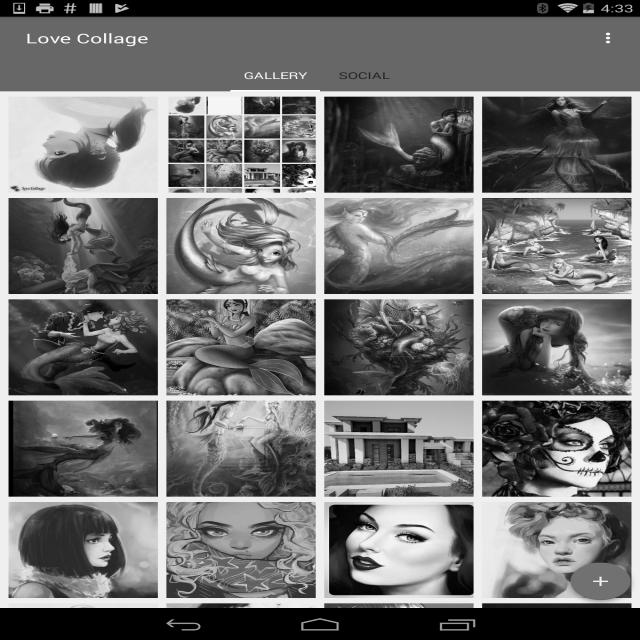ImageButton: (561, 559, 640, 608)
ImageView: (166, 96, 320, 192), (324, 96, 478, 192), (482, 96, 636, 192), (166, 198, 320, 294), (324, 198, 478, 294), (482, 198, 636, 294), (166, 300, 320, 396), (324, 300, 478, 396), (482, 300, 636, 396), (166, 502, 320, 598), (324, 502, 478, 598), (482, 502, 636, 598), (9, 96, 162, 192), (9, 198, 162, 294), (9, 300, 162, 396), (9, 502, 162, 598), (166, 401, 320, 496), (324, 401, 478, 496), (482, 401, 636, 496), (9, 401, 162, 496), (166, 603, 320, 640), (324, 603, 478, 640), (482, 603, 636, 640), (9, 603, 162, 640), (589, 22, 631, 54)
TextView: (25, 29, 148, 47), (243, 69, 307, 82), (339, 69, 390, 82)
